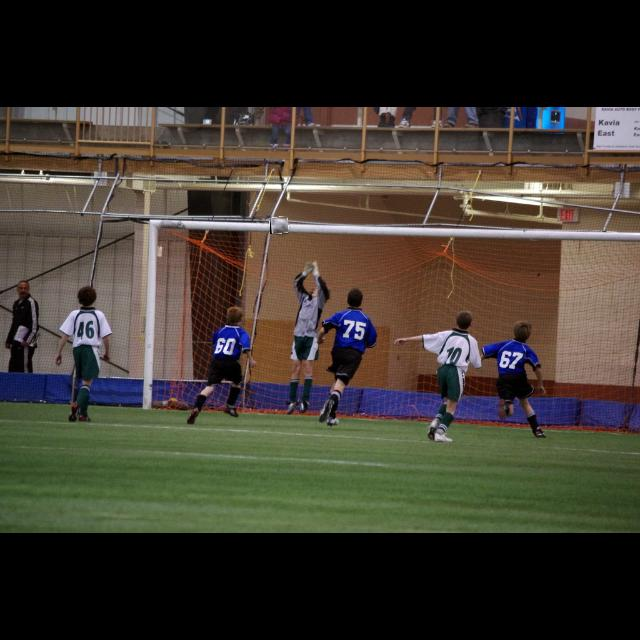Football: (270, 216, 288, 234)
